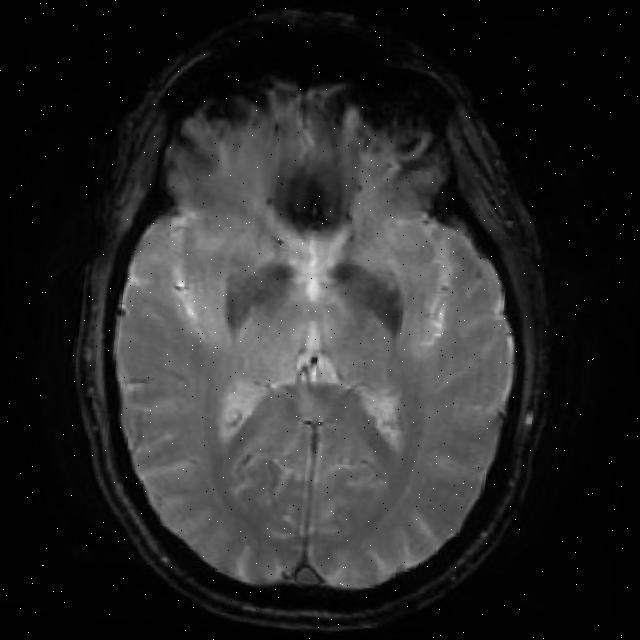MCI: (256, 144, 370, 250), (328, 254, 416, 345), (210, 255, 280, 318)
